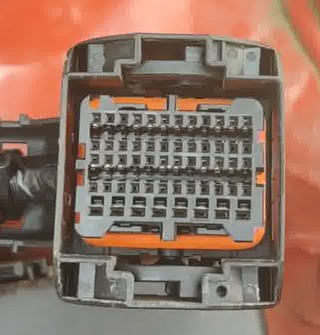connector: (53, 33, 285, 312)
